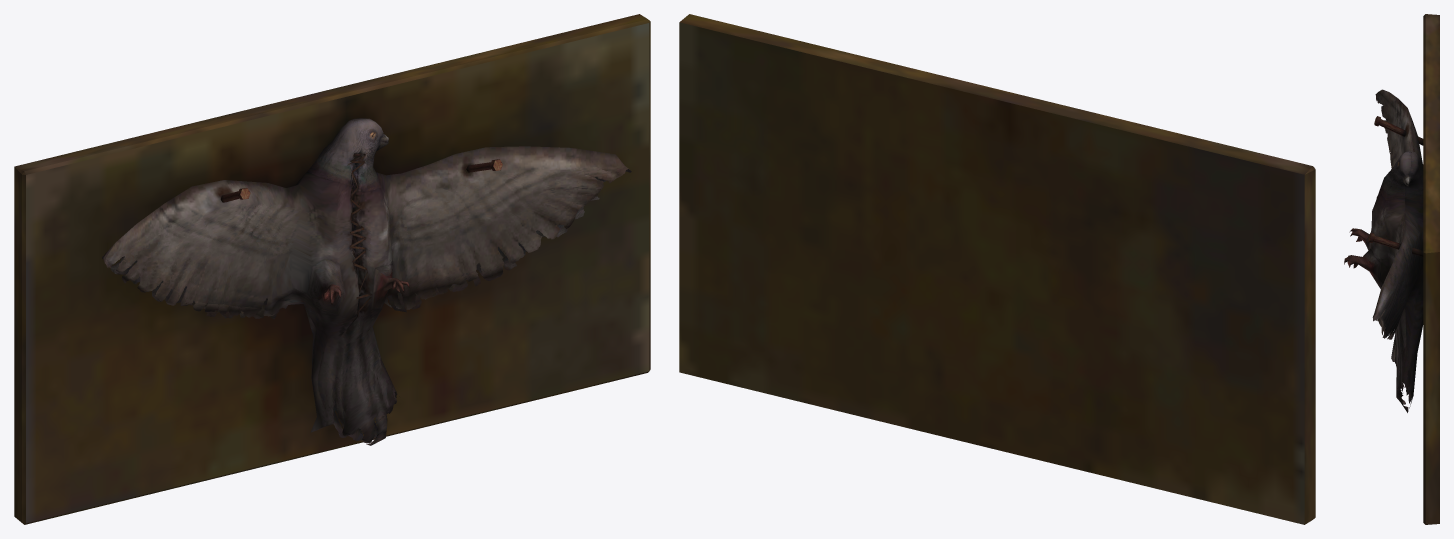
File: stuffed_bird.dae
3 views of the same model, side by side, from view 1: azimuth 30°, elevation 25°; view 2: azimuth 150°, elevation 25°; view 3: azimuth 270°, elevation 25° (orthographic). The views are drawn at different scales.
Parts seen in each view (by area): view 1: polySurface5; view 2: polySurface5; view 3: polySurface5.
Boxes of the visible parts, x1,y1,x2,y2 form: polySurface5: (14,14,650,524); polySurface5: (679,14,1315,524); polySurface5: (1344,14,1439,524).
Bounding box in the file's own units: 0.7632 × 0.4104 × 0.1297.
